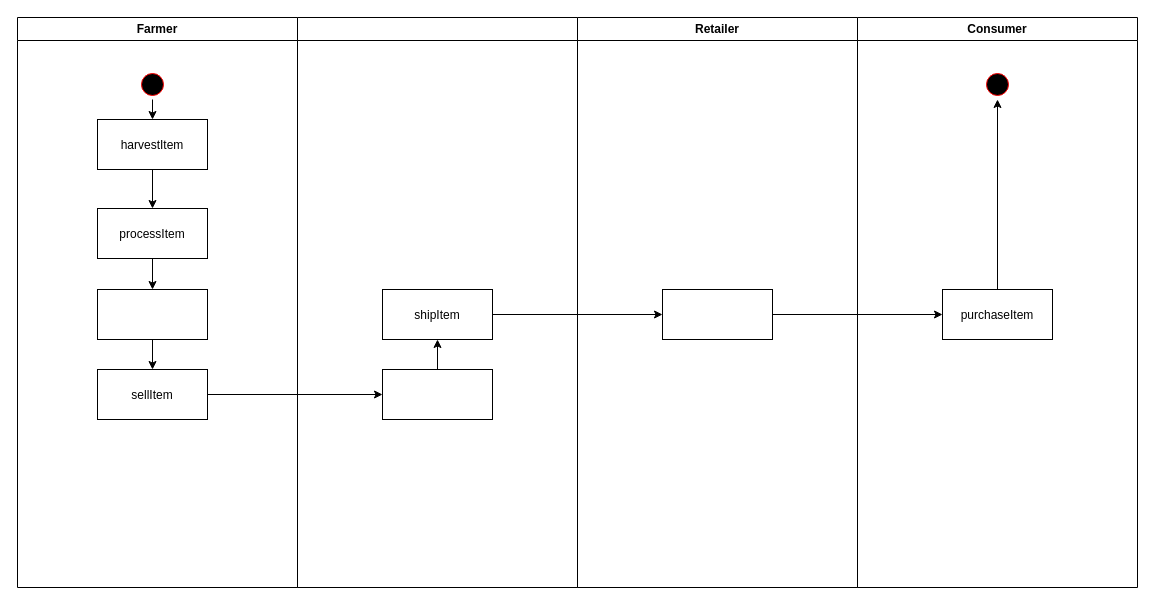
Image size: 1155x605. Some labels were removed from this diagram. The shapes that lost their labels are listed below. From the top down, each one's box as (x1, y1, x2, y2) in pixels, then its label:
(96, 288, 208, 340): packItem
(296, 16, 578, 588): Distributer
(662, 288, 772, 340): receiveItem
(382, 368, 492, 420): buyItem
